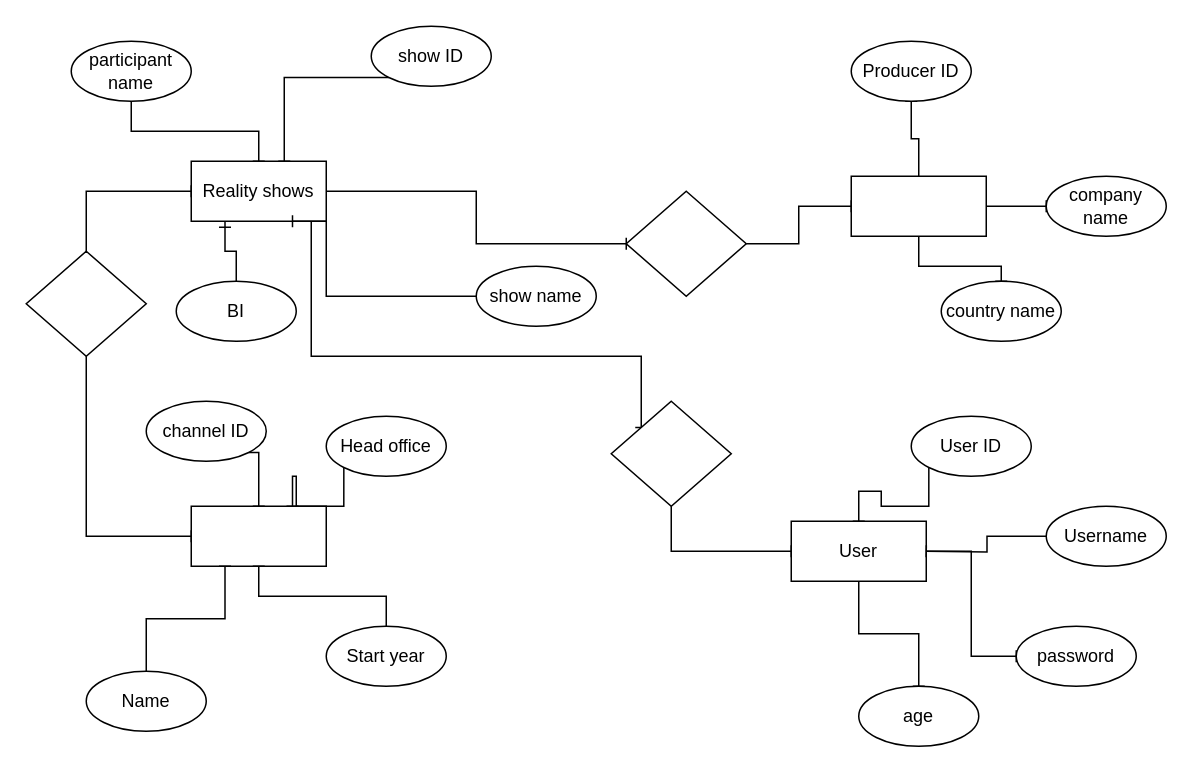
Some shapes in this 1193 by 773 pixel diagram are drawn without their labels. The shapes that lost their labels are listed below. From the top down, each one's centre as x and y in pixels, then its label:
the point at 918,205: Producers
the point at 685,243: produce
the point at 85,303: broadcast
the point at 670,453: Rate
the point at 258,535: TV channel
